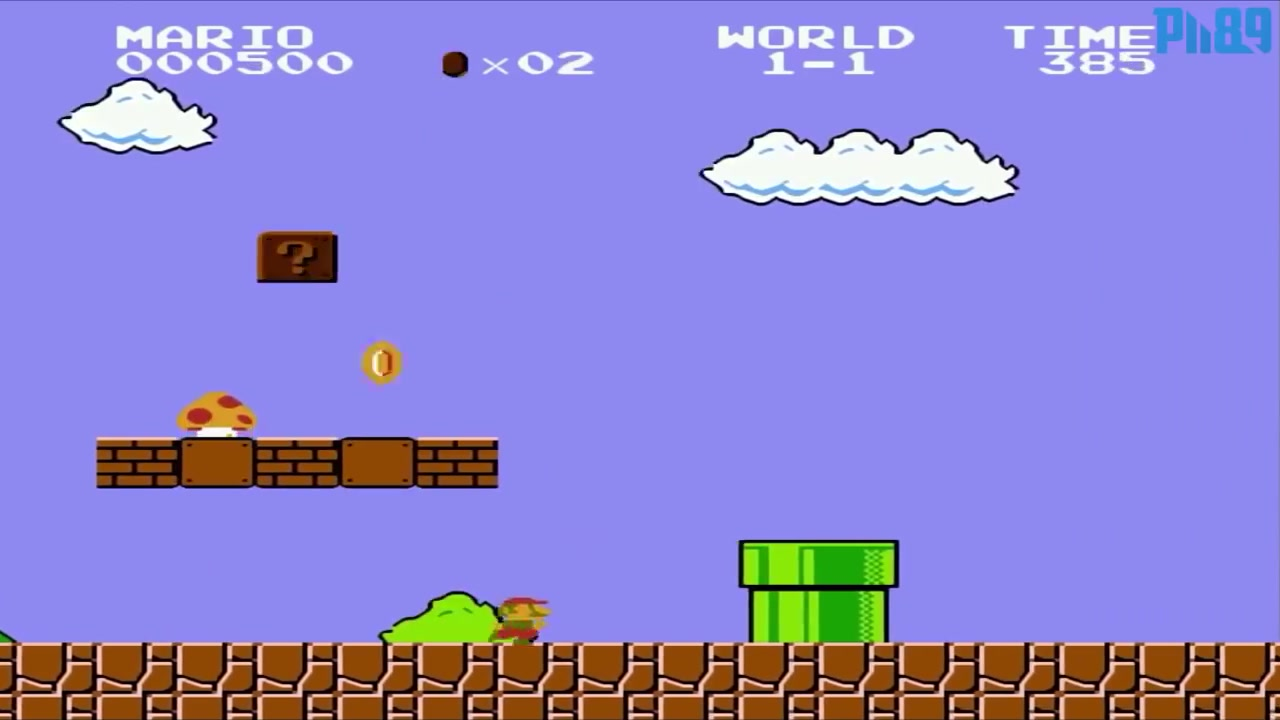mario: (479, 586, 553, 653)
